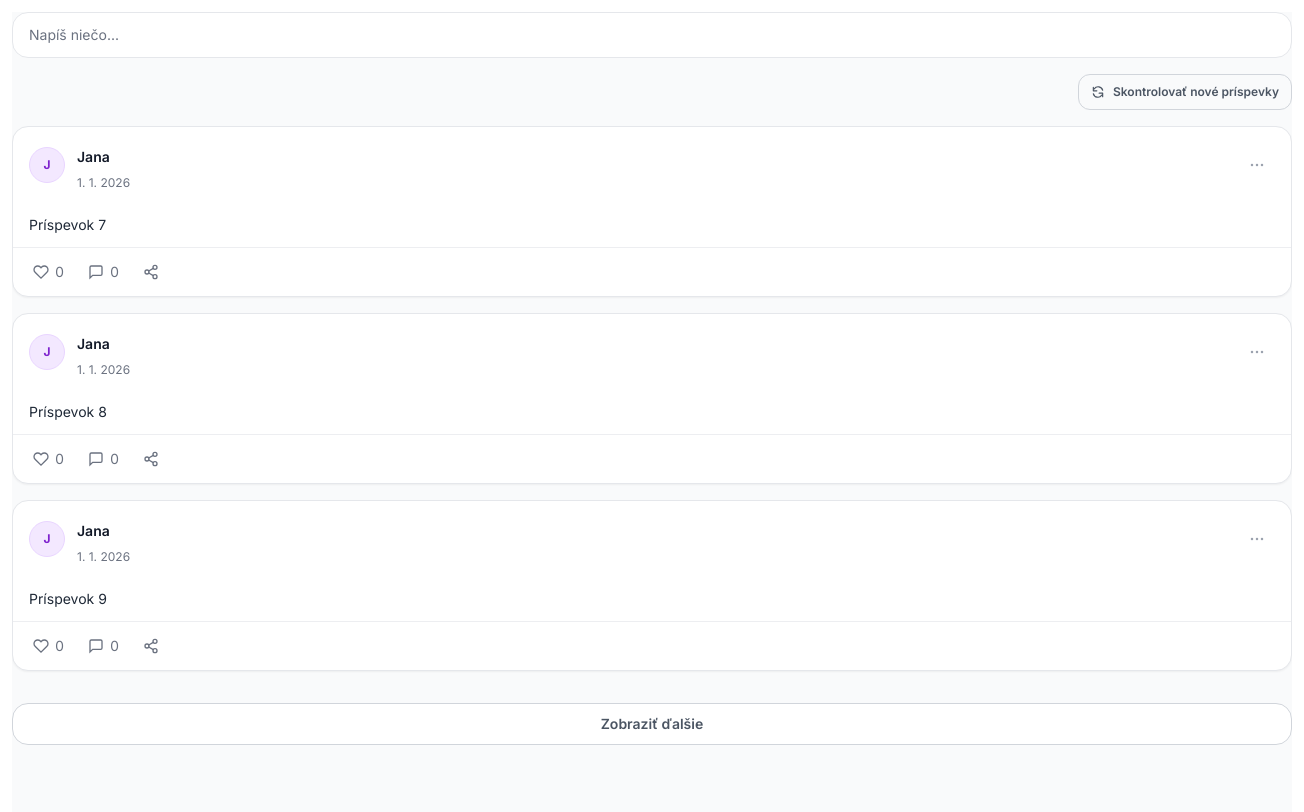
návrat na Nástenku › keeps the loaded pages and loads more from the restored cursor
This screenshot has width=1304, height=812.
Expected: the text "Príspevok 7" is shown, [29,216,106,233]
Click the button "Zobraziť ďalšie" at (652, 724), box [12,703,1292,745]
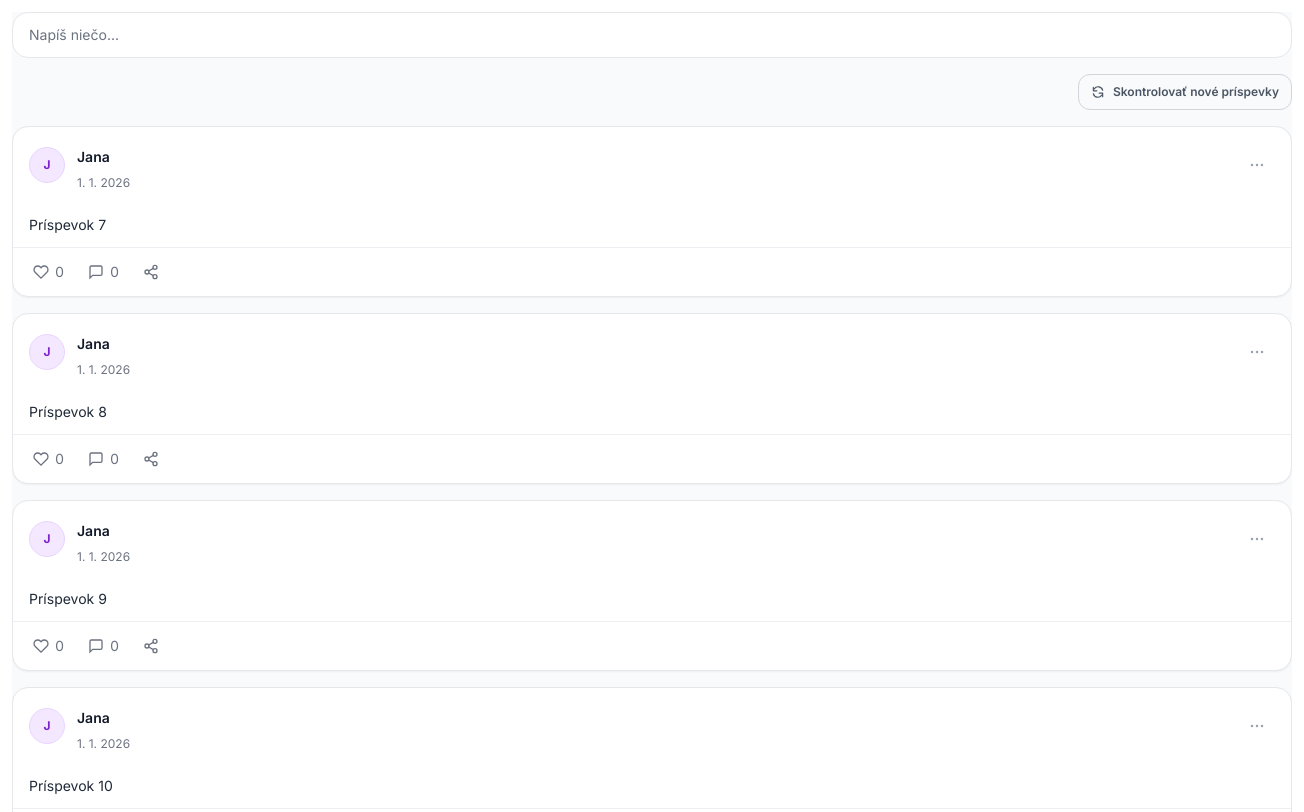
Expected: the text "Príspevok 10" is shown, [29,777,113,794]
